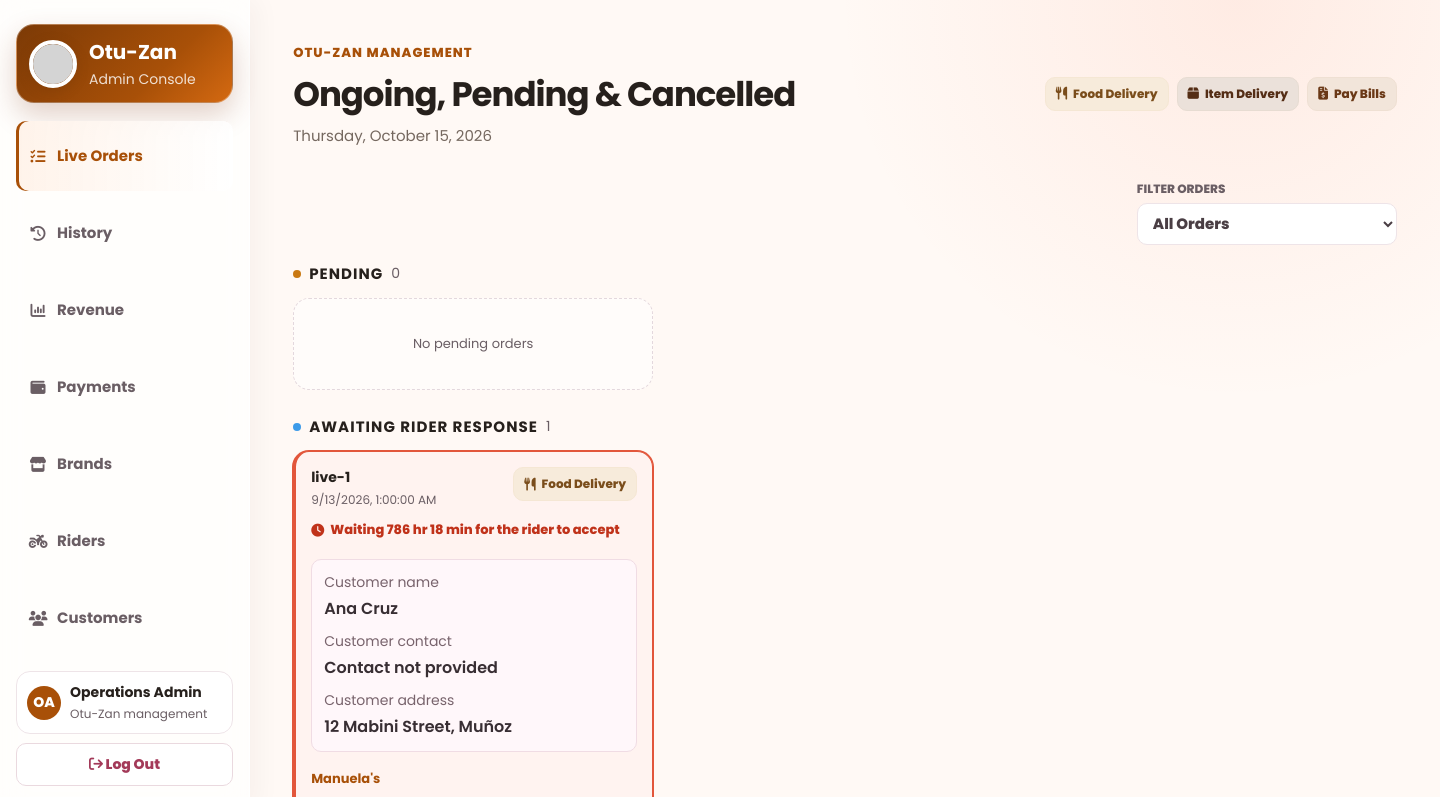
Test: admin live orders and history display names, addresses, and missing-data fallbacks
Expected: the text "Ana Cruz" is shown, 324,597 -> 398,620
Expected: the text "12 Mabini Street, Muñoz" is shown, 324,715 -> 512,738
Click the button "History" at (124, 233), box 16,198 -> 233,268
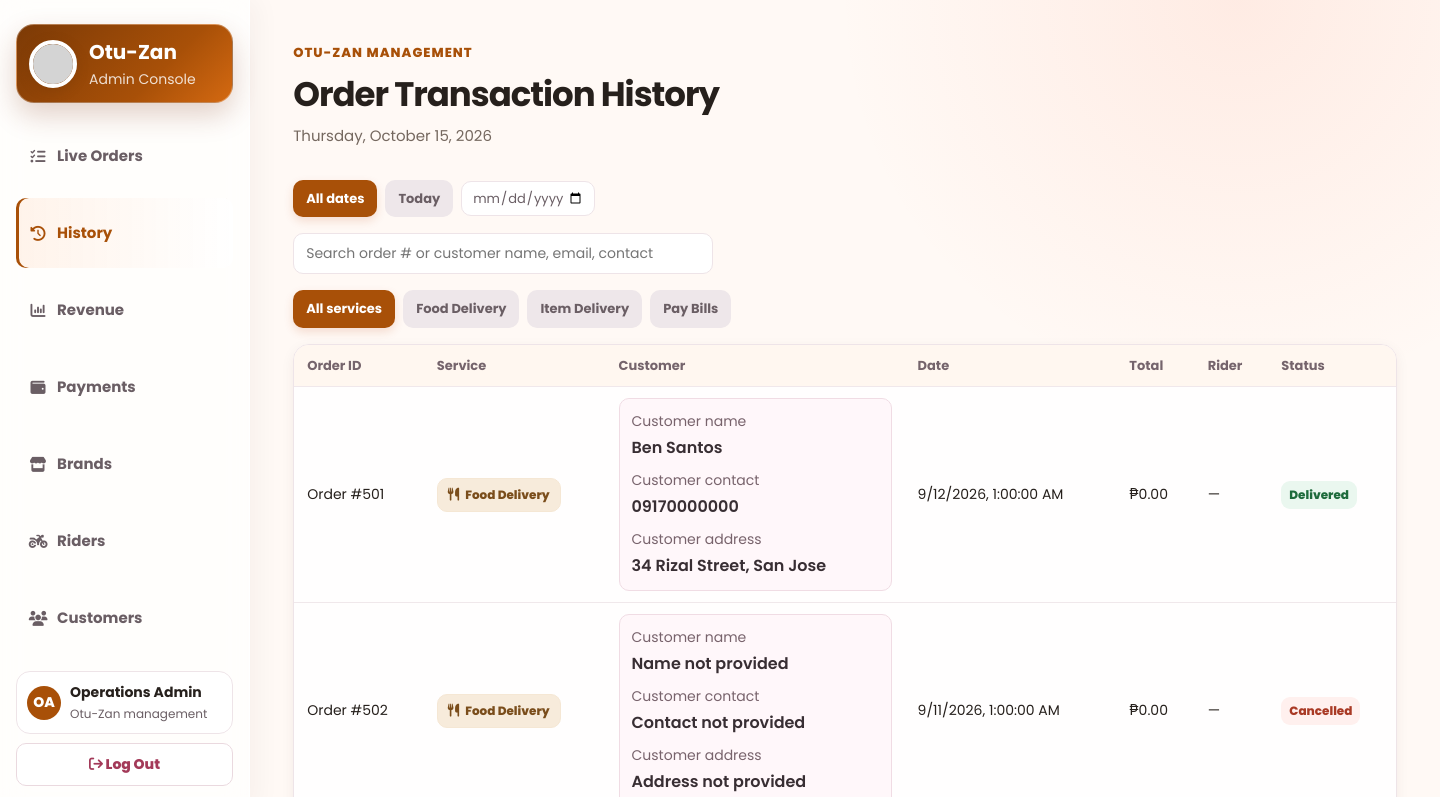
Expected: the text "Ben Santos" is shown, 632,436 -> 722,459
Expected: the text "34 Rizal Street, San Jose" is shown, 632,554 -> 826,577
Expected: the text "Name not provided" is shown, 632,652 -> 788,675
